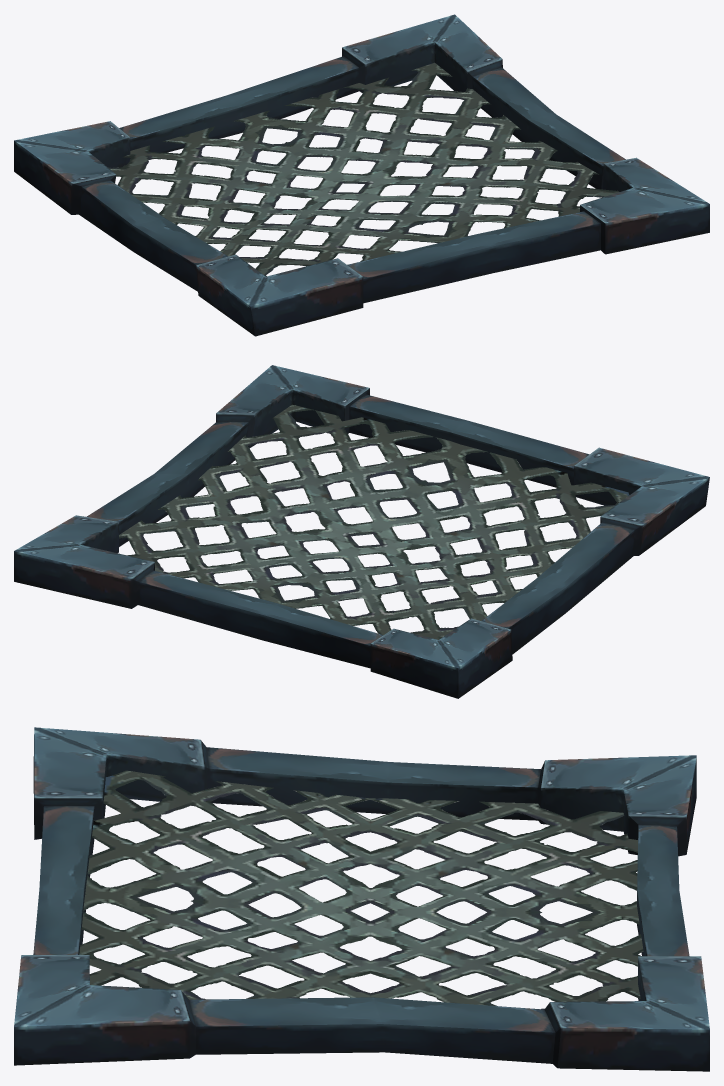
File: mesh_Pt_sewb_props_18.FBX
3 views of the same model, one above another, from view 1: azimuth 30°, elevation 25°; view 2: azimuth 150°, elevation 25°; view 3: azimuth 270°, elevation 25° (orthographic). The views are drawn at different scales.
Visible parts, largest first — view 1: polySurface84; view 2: polySurface84; view 3: polySurface84.
Part boxes in pixels (x1=…): polySurface84: x1=14, y1=14, x2=709, y2=336; polySurface84: x1=14, y1=365, x2=709, y2=698; polySurface84: x1=14, y1=727, x2=709, y2=1071.
Bounding box in the file's own units: 0.0884 × 0.0103 × 0.087.
